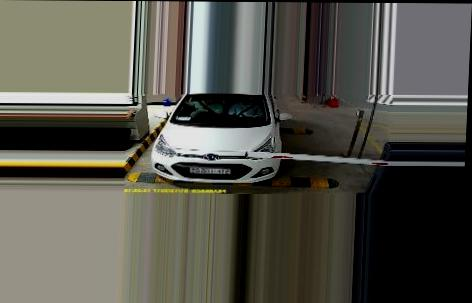License_Plate: (187, 166, 232, 177)
